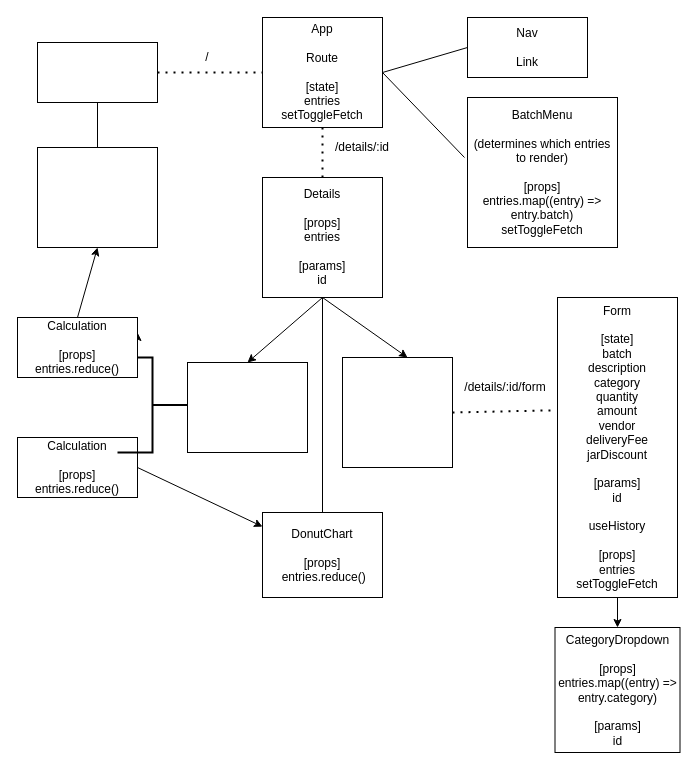
The diagram is 698 pixels wide and 770 high, and some of its shapes have lost their labels. The centre of each missing label's shape, as x and y in pixels:
"(PMVP) ComboChart [props] entries.reduce()" belongs at (x=97, y=197).
"Summary" belongs at (x=97, y=72).
"Table [props] entries" belongs at (x=247, y=407).
"ToFormButton [params] id Link" belongs at (x=397, y=412).
